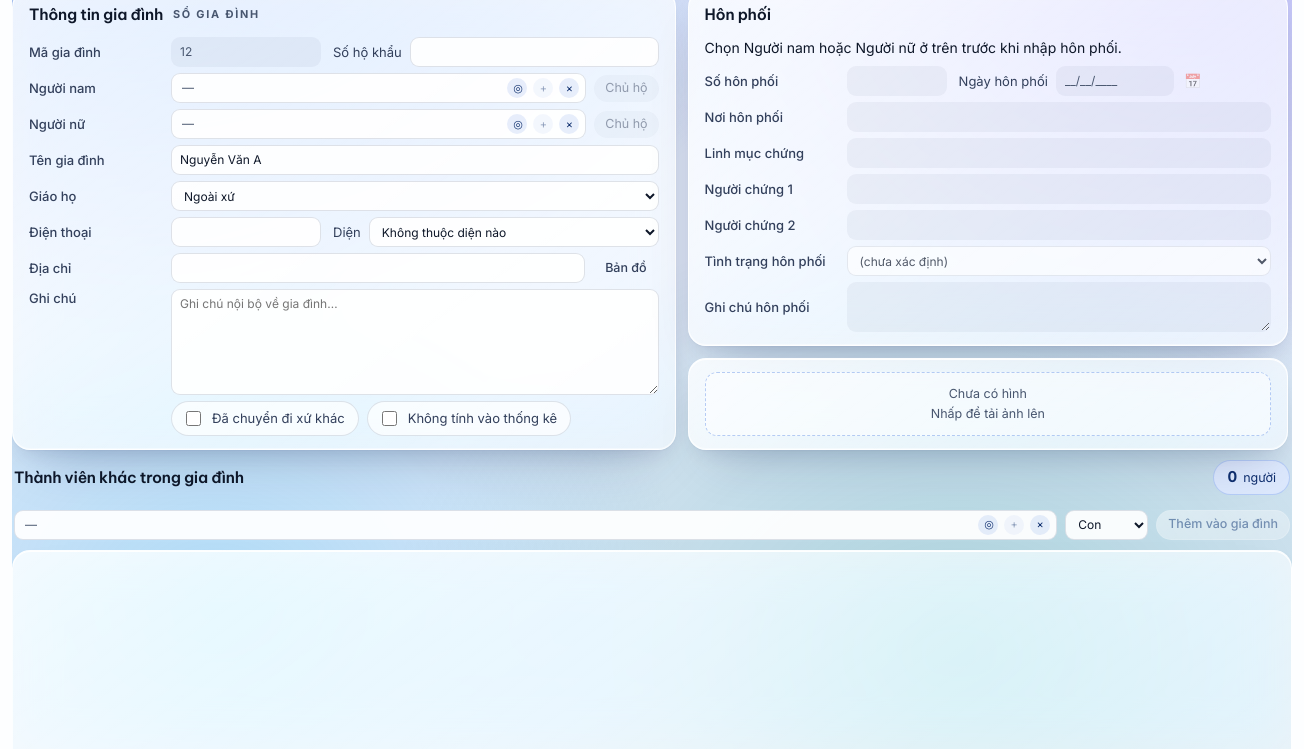
Test: GiaDinhDetailPage › xung dot RowVersion (409) hien thong bao tieng Viet, khong mat du lieu vua go
Replace the text in the field labelled "Tên gia đình" with "Tên vừa sửa" at [415, 160], box [171,145,659,175]
(page scrolled)
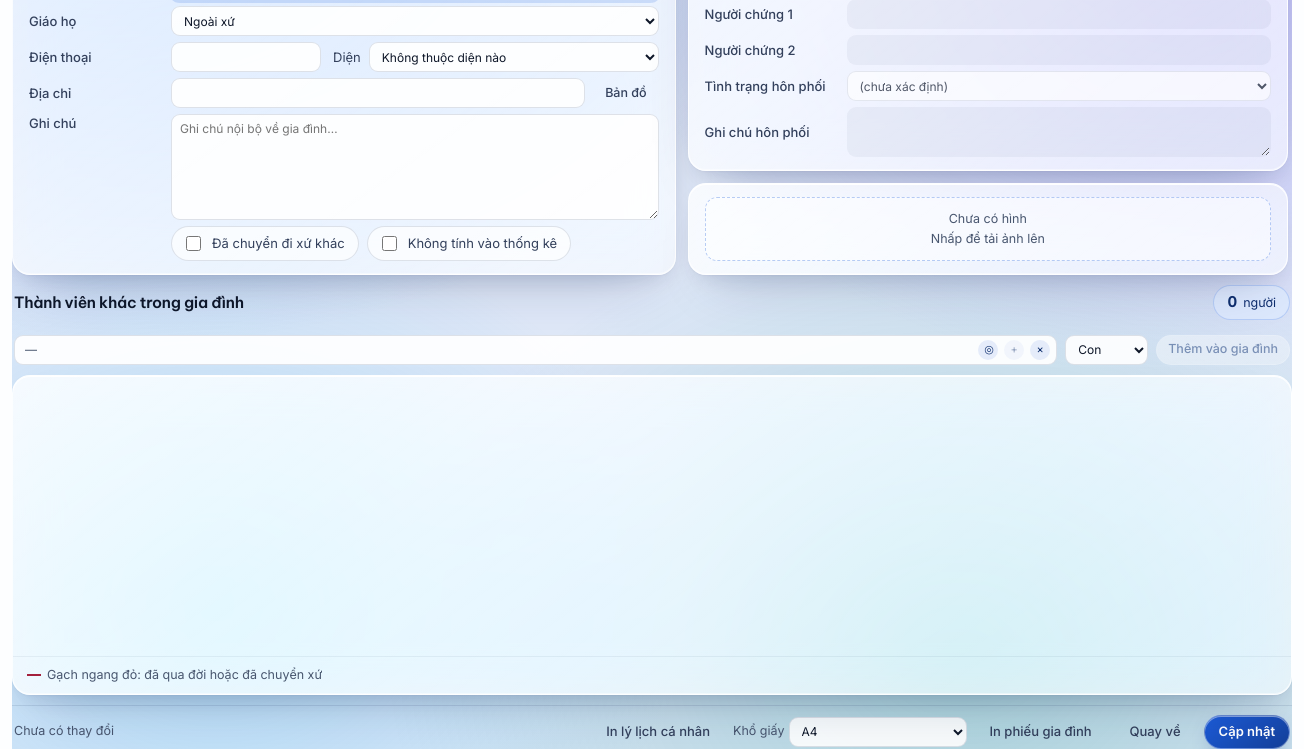
Click the button "Cập nhật" at [1247, 732], box [1204,715,1290,748]
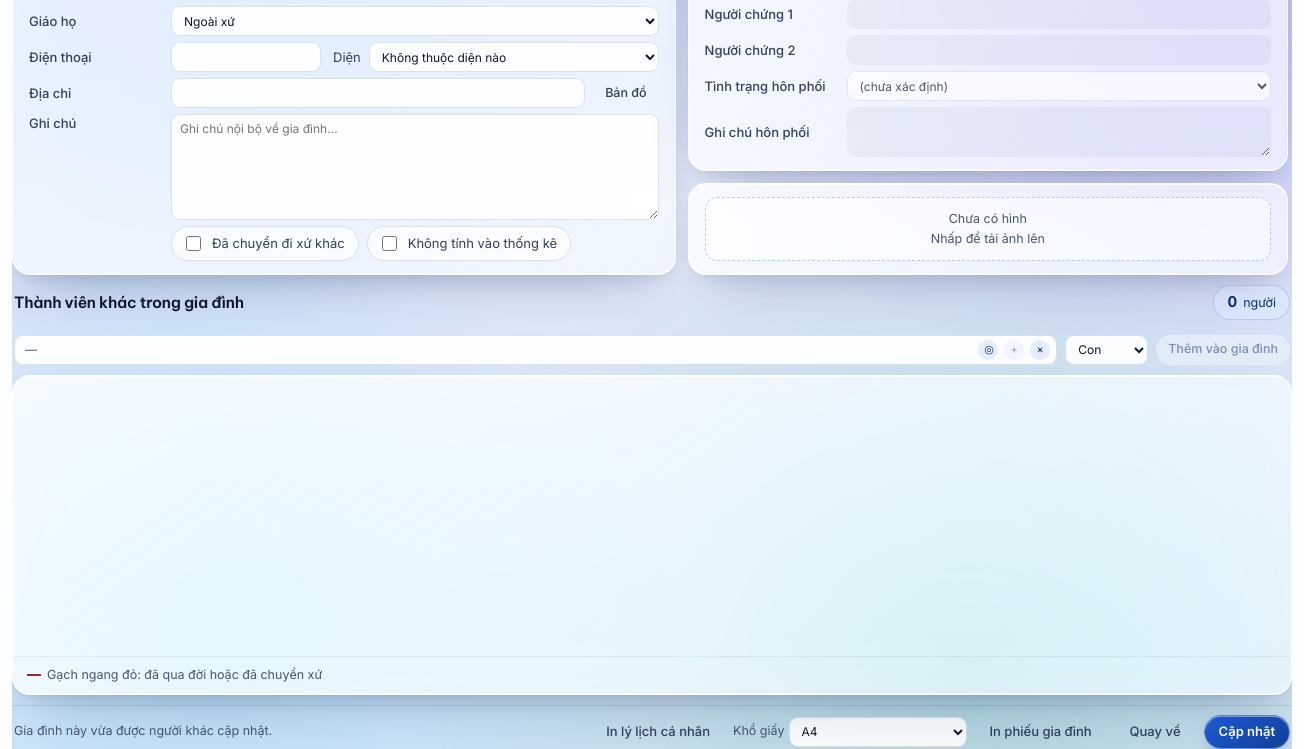
Result: the text "Gia đình này vừa được người khác cập nhật." is shown at [14,722,272,741]
